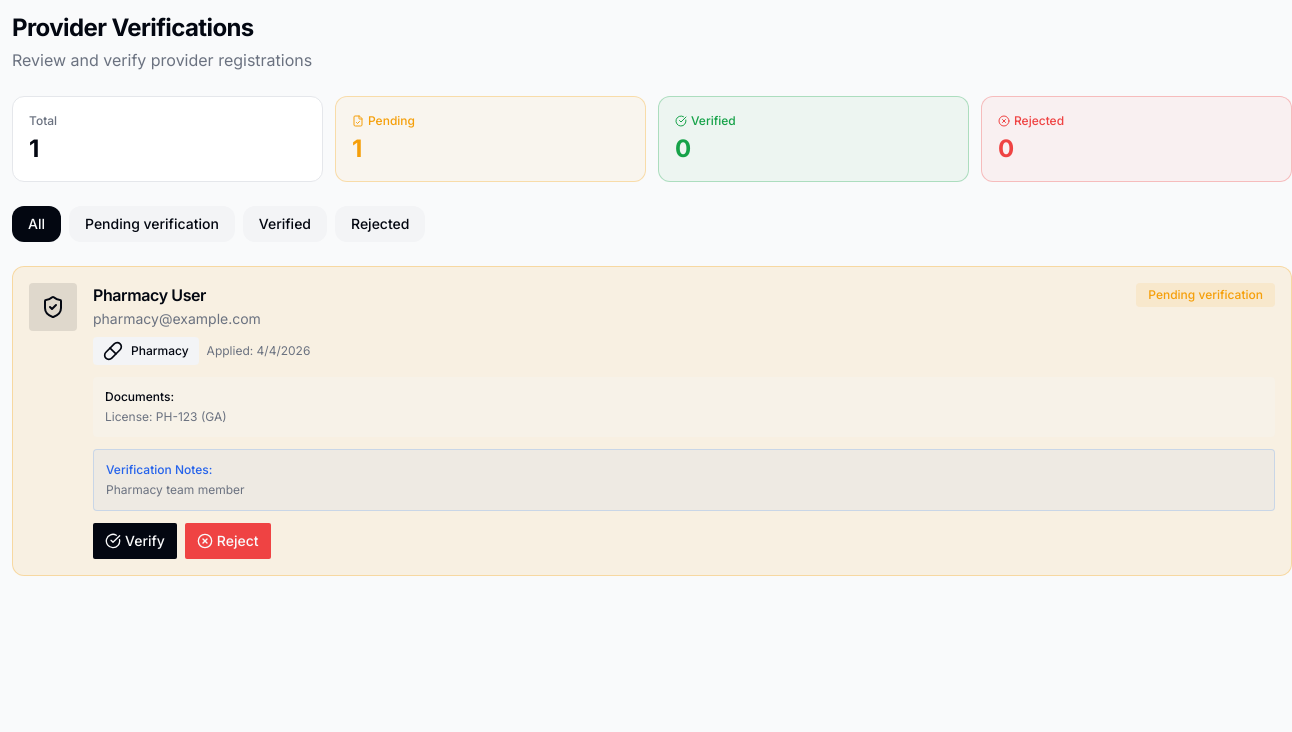
VerificationsPage › shows Verified after a pending provider is verified
This screenshot has width=1292, height=732.
Expected: the heading "Pharmacy User" is shown, [93, 285, 206, 305]
Expected: the text with test id "verification-status-1" reads "Pending verification", [1148, 287, 1263, 302]
Click the button "Verify": (135, 541) [93, 523, 177, 559]
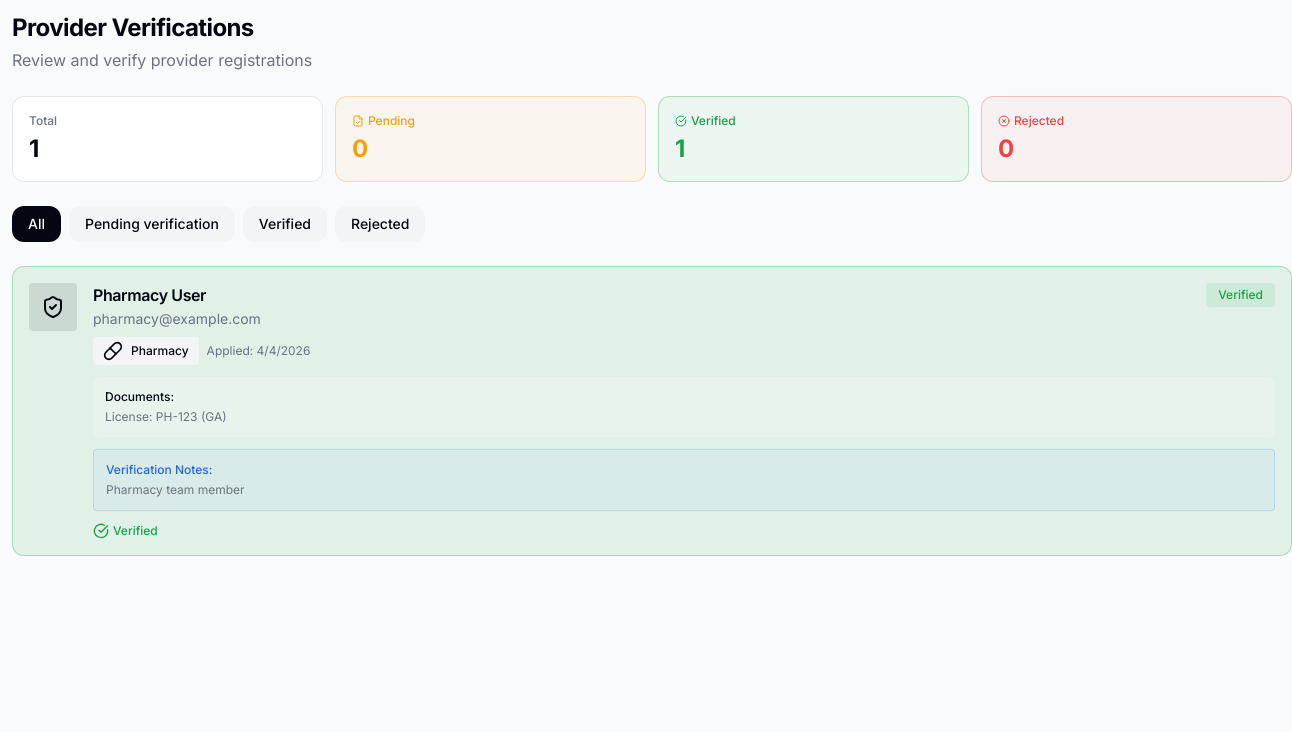
Expected: the text with test id "verification-status-1" reads "Verified", [1218, 287, 1263, 302]
